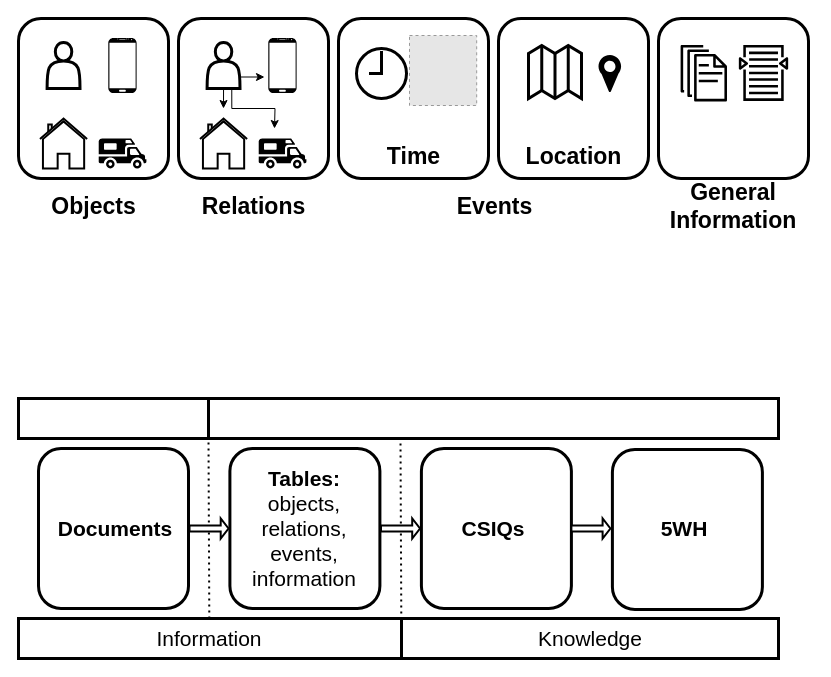
Image size: 831x677. Some labels were removed from this diagram. Grey dashed boxes stand in for pictures. The centre of each missing label's shape, as x and y in pixels:
"Structured" goes at pixel 493 418.
"Unstructured" goes at pixel 113 418.
